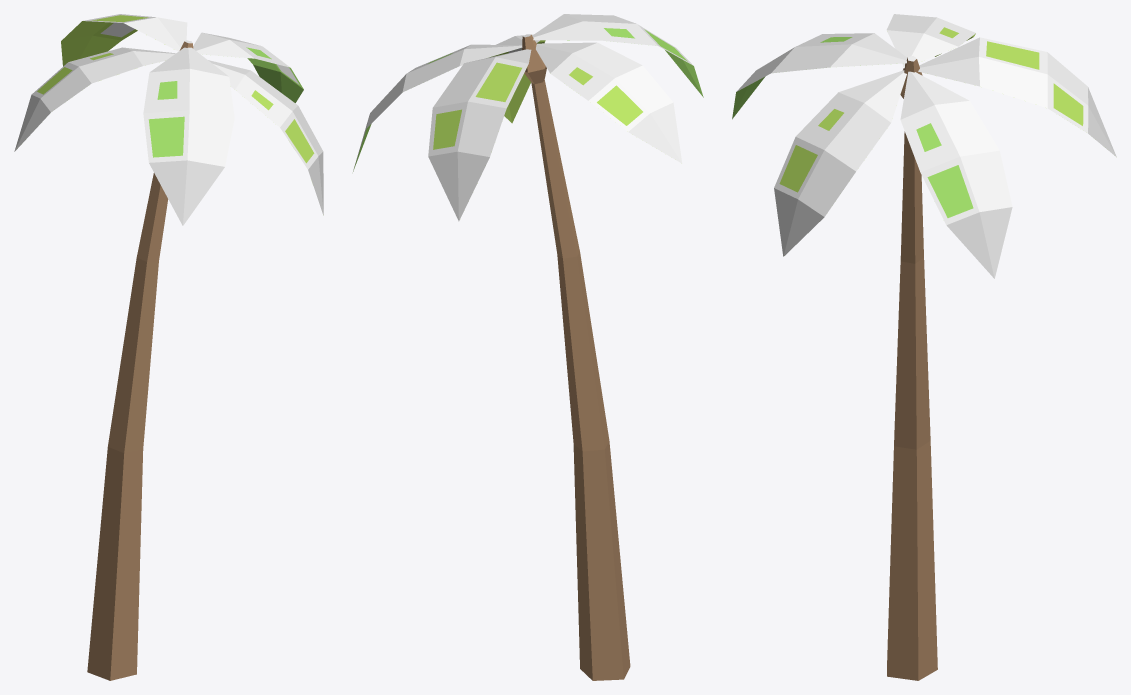
The model's file is Palm_Tree_s_Snow_BT_02.fbx.
3 views of the same model, side by side, from view 1: azimuth 30°, elevation 25°; view 2: azimuth 150°, elevation 25°; view 3: azimuth 270°, elevation 25° (orthographic). The views are drawn at different scales.
Parts seen in each view (by area): view 1: Palm_Tree_s_Snow_BT_02; view 2: Palm_Tree_s_Snow_BT_02; view 3: Palm_Tree_s_Snow_BT_02.
Part boxes in pixels (left/top/right/bottom): Palm_Tree_s_Snow_BT_02: left=14, top=14, right=323, bottom=680; Palm_Tree_s_Snow_BT_02: left=353, top=14, right=703, bottom=680; Palm_Tree_s_Snow_BT_02: left=732, top=14, right=1116, bottom=680.
Size of the model in its own units: 243 by 478 by 255.
